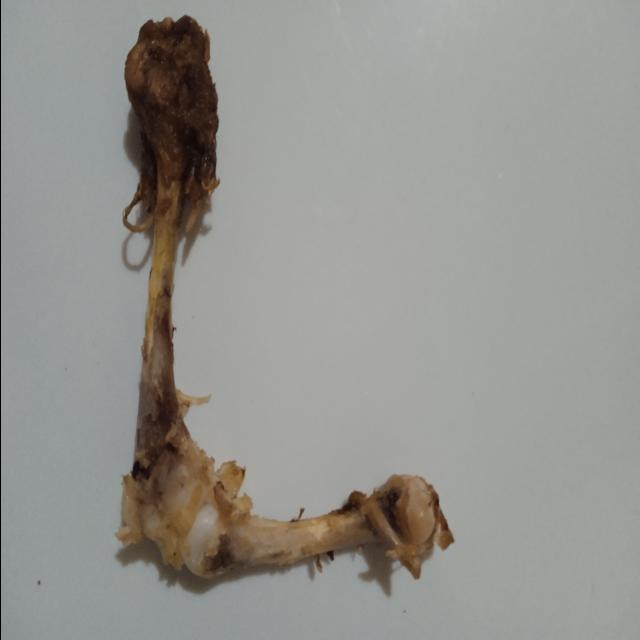bone: (119, 11, 458, 582)
